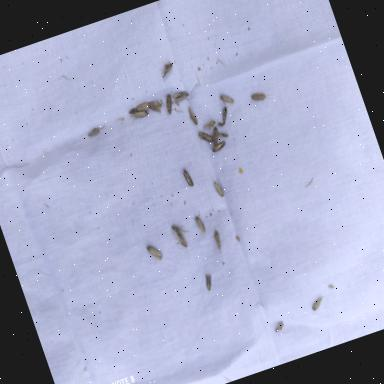pbw: (210, 225, 228, 255), (170, 220, 193, 243), (178, 166, 197, 190), (198, 128, 216, 152), (208, 137, 229, 157), (145, 242, 164, 264), (250, 88, 274, 105), (192, 210, 208, 235), (171, 230, 189, 252), (129, 108, 151, 125), (208, 126, 224, 148), (161, 94, 177, 116), (134, 97, 154, 114), (158, 60, 176, 78), (310, 294, 328, 312), (218, 92, 236, 109), (202, 272, 216, 292), (147, 98, 162, 116), (218, 106, 232, 125), (187, 106, 200, 126), (172, 90, 190, 102), (214, 180, 226, 198), (202, 120, 218, 132), (272, 320, 286, 333), (87, 128, 101, 138)
